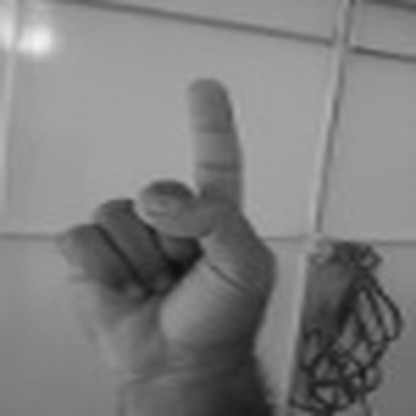d: (53, 79, 280, 375)
